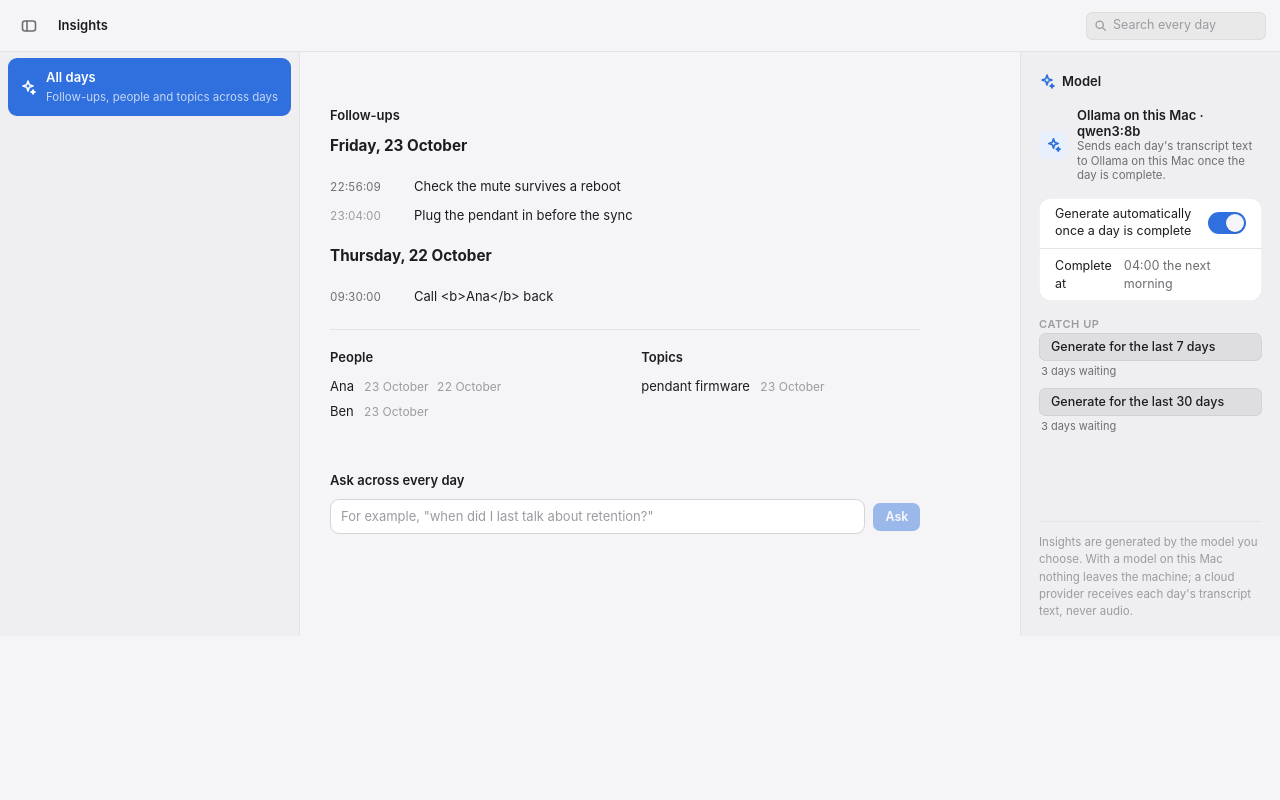
it: on this Mac the estimate is free
Click the button "Generate for the last 7 days": click(1150, 347) [1039,333,1262,361]
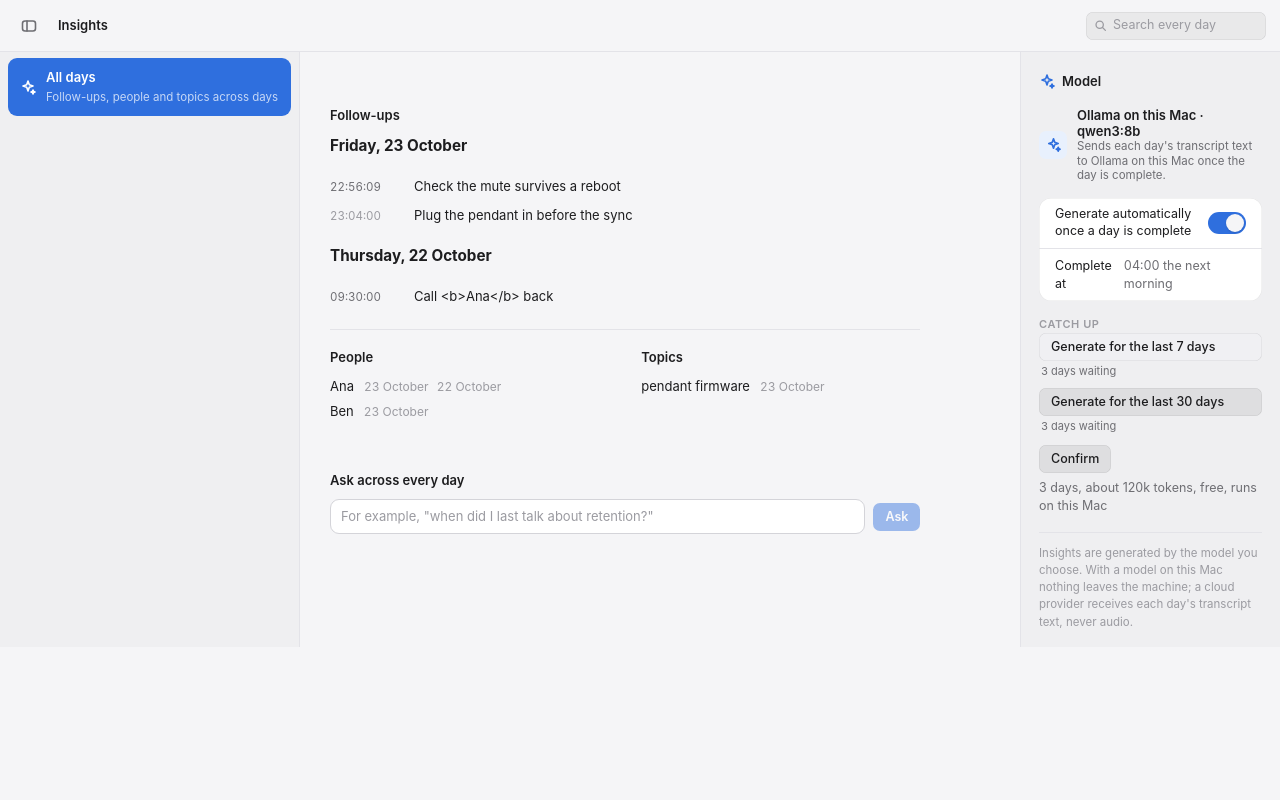
Now the text "3 days, about 120k tokens, free, runs on this Mac" is shown, box [1039,479,1262,516]
